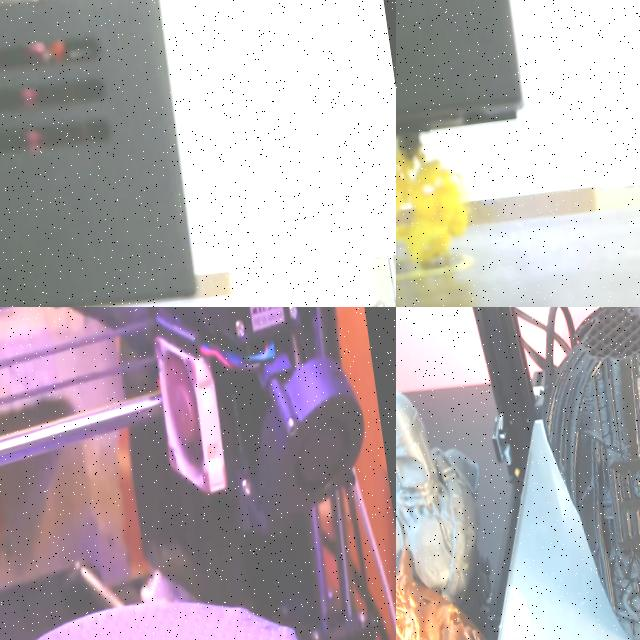spaghetti: (396, 145, 488, 281)
